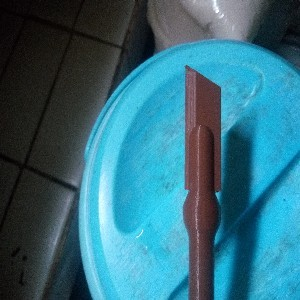cutter: (182, 63, 223, 300)
